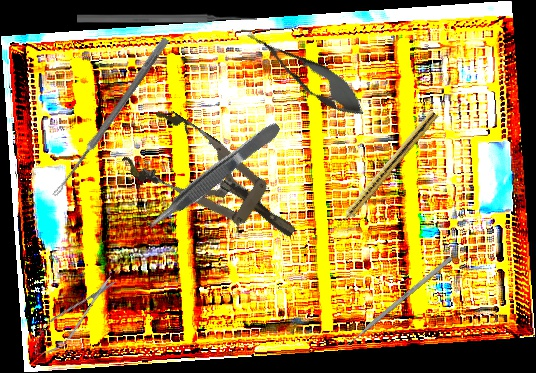Handpiece: (331, 108, 439, 233)
Micro Scissor: (238, 19, 374, 127), (25, 268, 124, 364)
Pusher: (335, 255, 454, 356), (77, 13, 257, 25)
Speculum: (118, 102, 313, 266)
Surgical Spoon: (51, 35, 170, 200)
Tissue Forceps: (142, 119, 286, 235)
